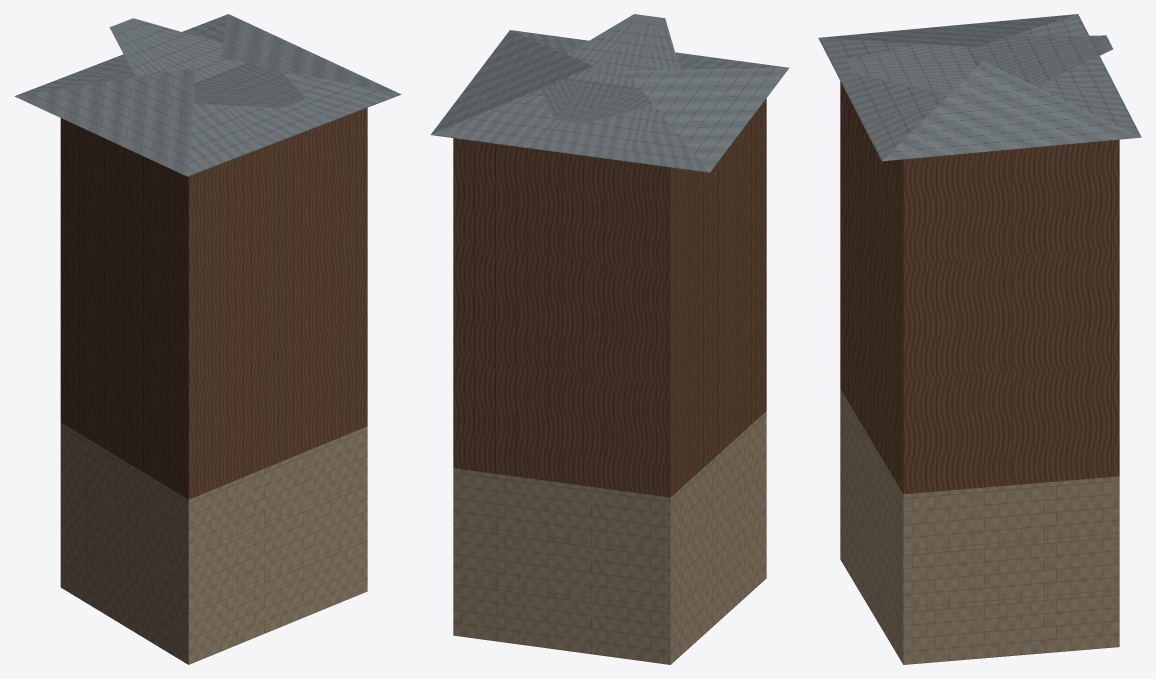
File: bld_c-41_0_750.gltf
3 views of the same model, side by side, from view 1: azimuth 30°, elevation 25°; view 2: azimuth 150°, elevation 25°; view 3: azimuth 270°, elevation 25° (orthographic). The views are drawn at different scales.
Parts seen in each view (by area): view 1: bld_c-41_0_750; view 2: bld_c-41_0_750; view 3: bld_c-41_0_750.
Part boxes in pixels (x1,y1,x2,y2): bld_c-41_0_750: [14, 14, 401, 664]; bld_c-41_0_750: [431, 14, 789, 664]; bld_c-41_0_750: [818, 14, 1141, 664].
Size of the model in its own units: 9.45 by 16.4 by 8.76.
Materials: 3 (3 with a texture image).
